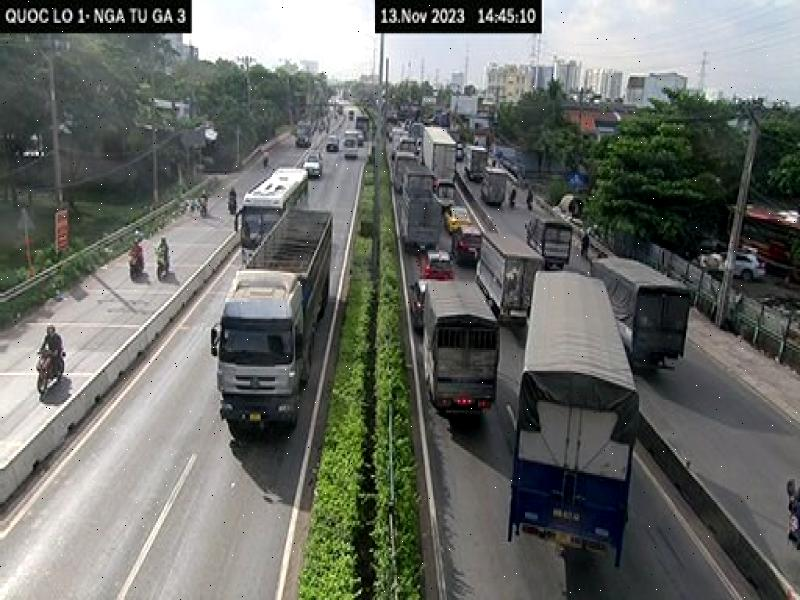bus: (232, 162, 315, 269)
truck: (209, 206, 336, 435)
